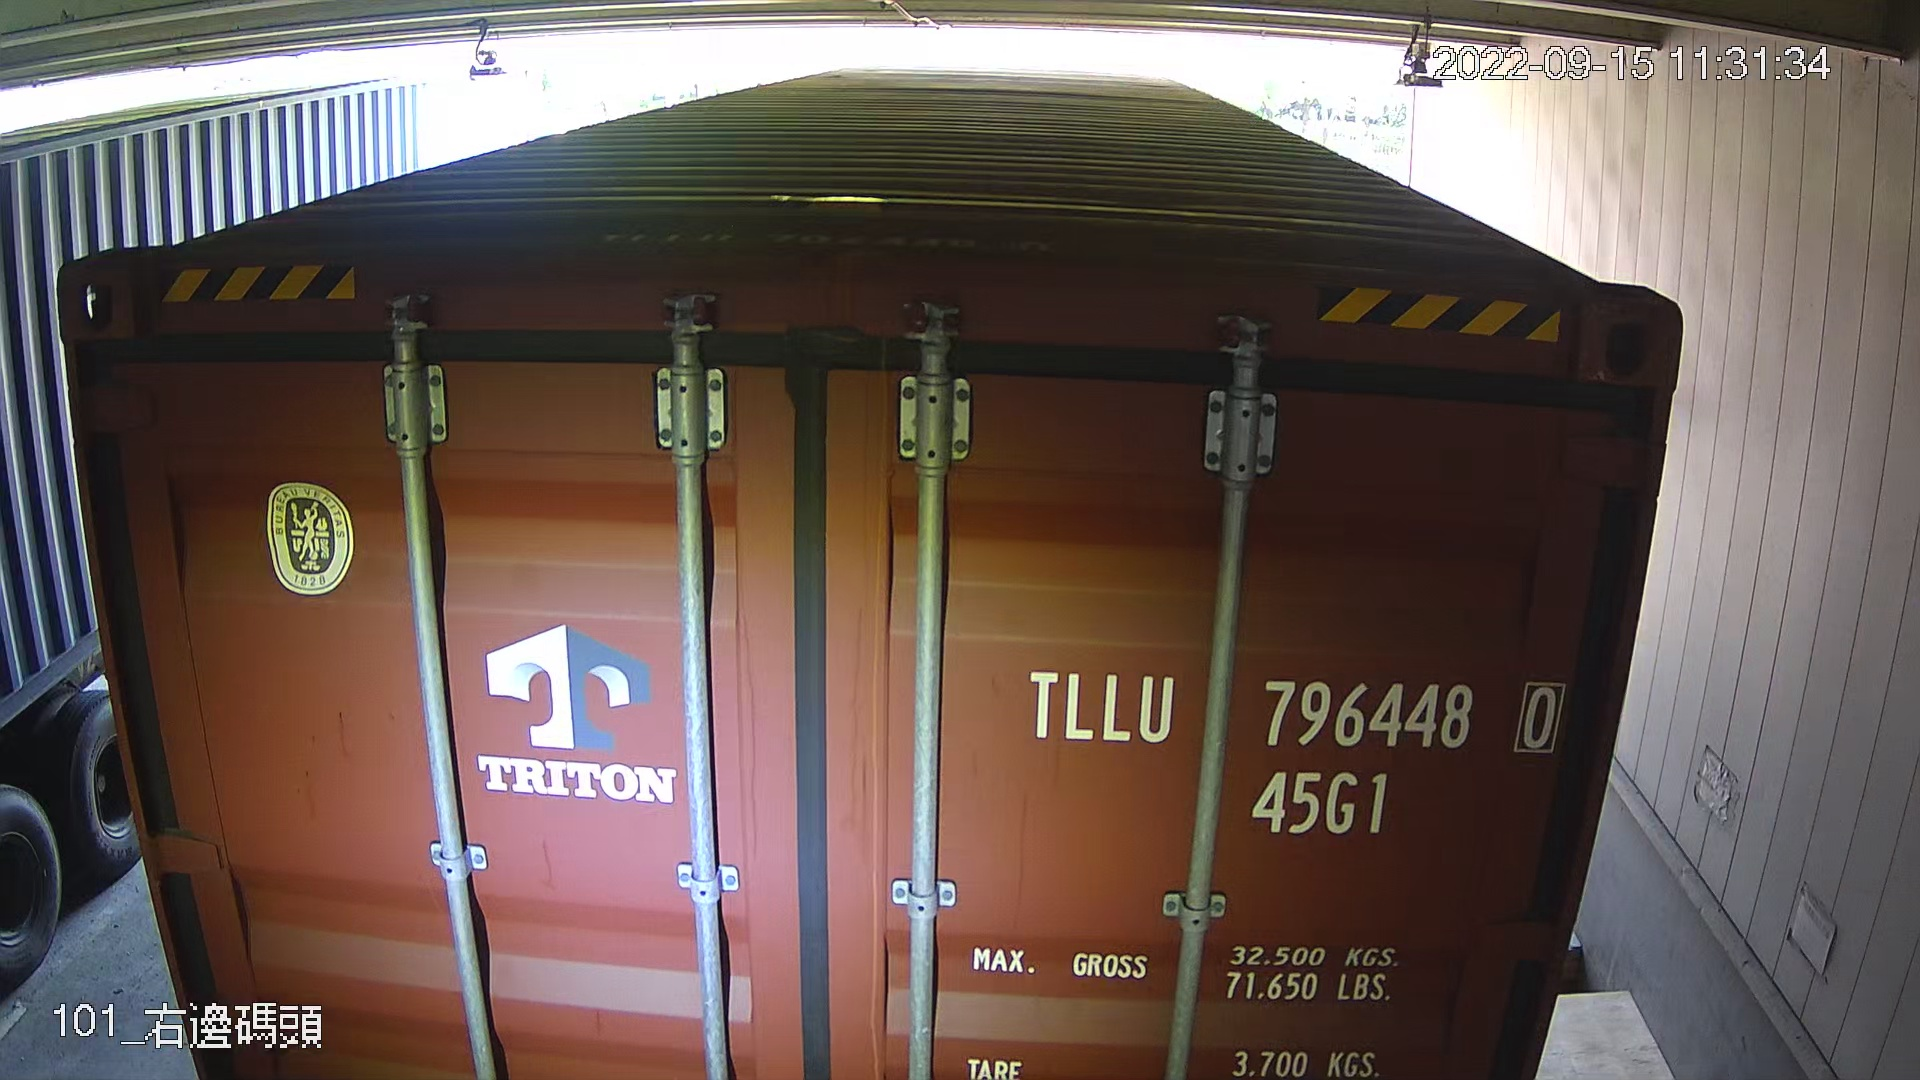container: (993, 650, 1575, 843)
